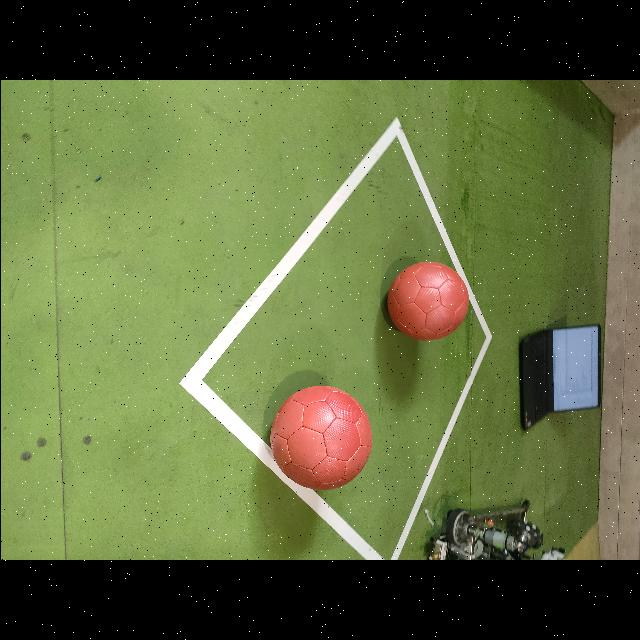R: (271, 386, 371, 489), (387, 262, 468, 340)
